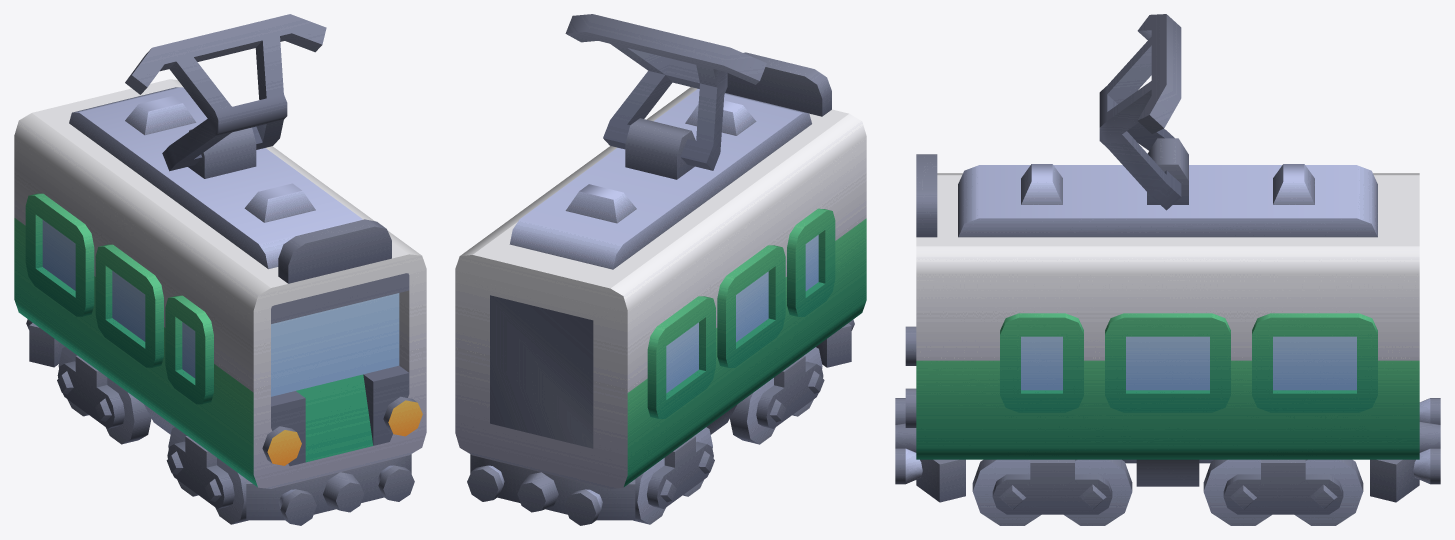
The model's file is train-electric-square-a.glb.
The picture shows the model from 3 angles, left to right: view 1: azimuth 30°, elevation 25°; view 2: azimuth 150°, elevation 25°; view 3: azimuth 270°, elevation 25°; orthographic projection. The views are drawn at different scales.
Visible parts, largest first — view 1: train-electric-square-a, collector, wheels-back, wheels-front; view 2: train-electric-square-a, collector, wheels-front, wheels-back; view 3: train-electric-square-a, collector, wheels-back, wheels-front.
Boxes of the visible parts, x1,y1,x2,y2 form: train-electric-square-a: [14, 79, 426, 525]; collector: [125, 14, 326, 171]; wheels-back: [57, 346, 151, 444]; wheels-front: [166, 427, 248, 524]; train-electric-square-a: [455, 52, 866, 525]; collector: [565, 14, 766, 170]; wheels-front: [730, 347, 824, 444]; wheels-back: [633, 427, 714, 524]; train-electric-square-a: [895, 138, 1440, 502]; collector: [1099, 14, 1181, 210]; wheels-back: [1203, 459, 1363, 525]; wheels-front: [972, 459, 1132, 525].
Size of the model in its own units: 1.13 by 2.32 by 2.6.
Materials: 1 (1 with a texture image).
